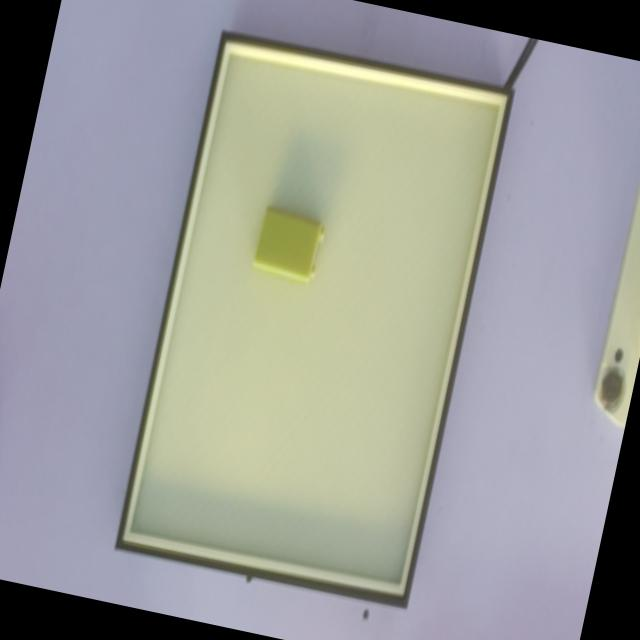bateria: (251, 204, 325, 283)
mesa: (114, 32, 515, 609)
